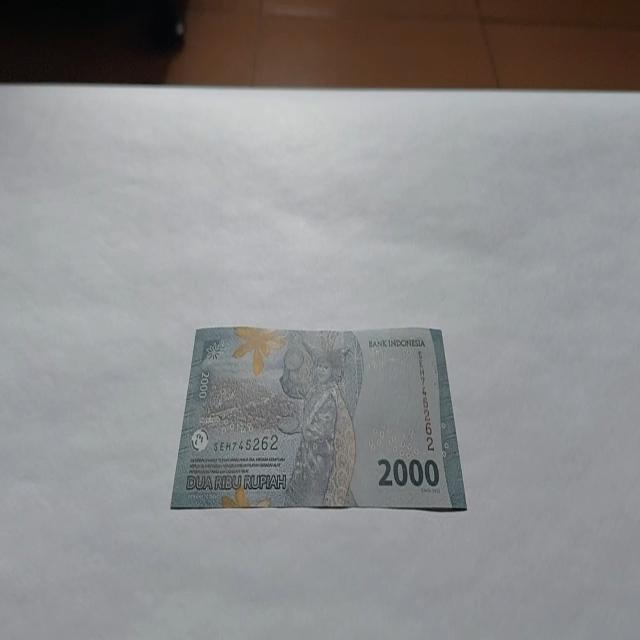dua ribu rupiah: (169, 323, 467, 512)
